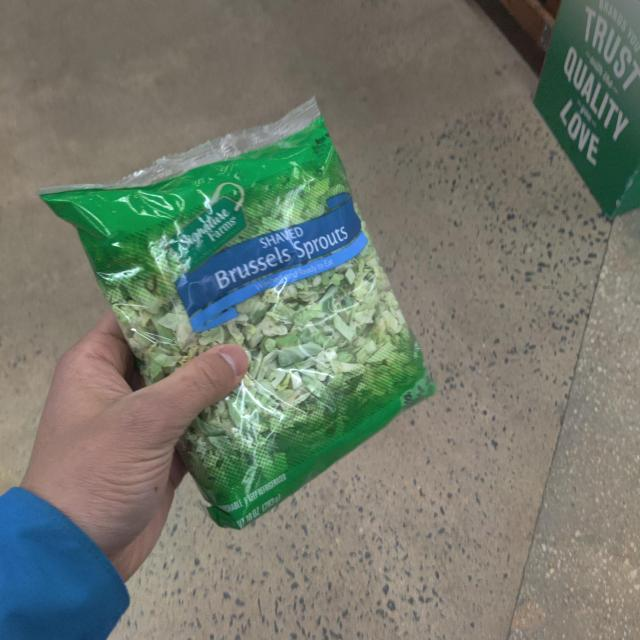Salad: (54, 109, 436, 521)
